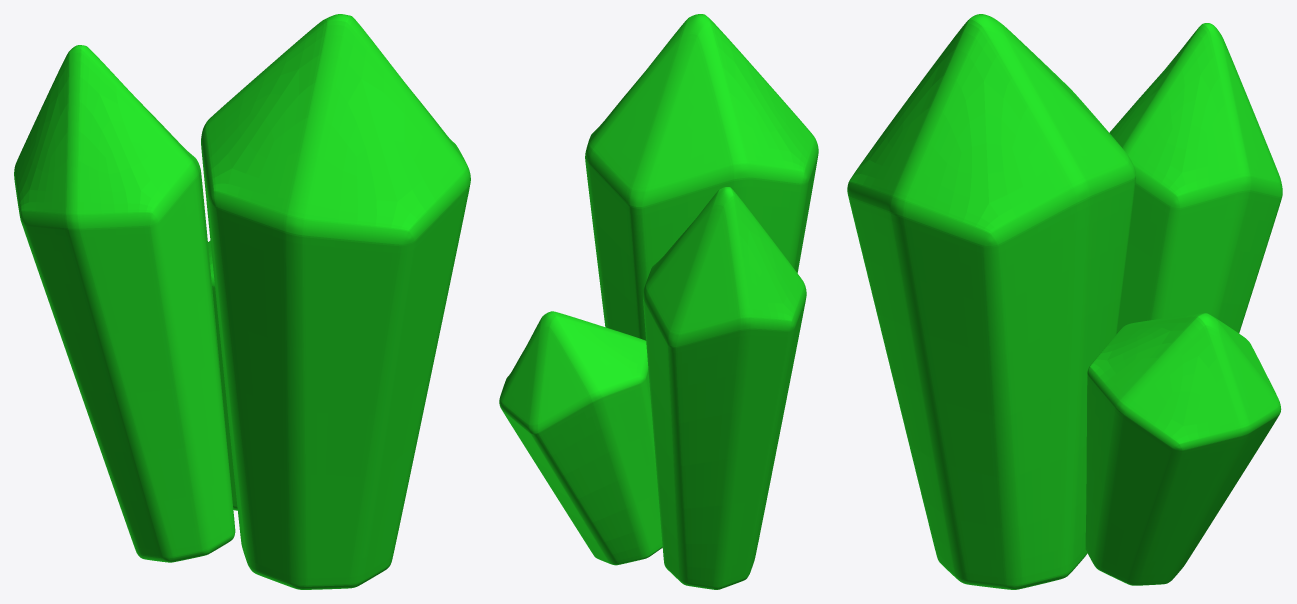
Rendered from kristalle_1.fbx.
3 views of the same model, side by side, from view 1: azimuth 30°, elevation 25°; view 2: azimuth 150°, elevation 25°; view 3: azimuth 270°, elevation 25° (orthographic). The views are drawn at different scales.
Parts seen in each view (by area): view 1: Kristall, Kristall.001, Kristall.002; view 2: Kristall.001, Kristall, Kristall.002; view 3: Kristall, Kristall.002, Kristall.001.
Part boxes in pixels (x1,y1,x2,y2): Kristall: [201, 14, 470, 589]; Kristall.001: [14, 45, 235, 562]; Kristall.002: [208, 241, 237, 510]; Kristall.001: [643, 187, 806, 589]; Kristall: [585, 14, 818, 340]; Kristall.002: [499, 311, 662, 565]; Kristall: [847, 14, 1135, 589]; Kristall.002: [1085, 313, 1281, 585]; Kristall.001: [1109, 23, 1282, 333].
Bounding box in the file's own units: 22.28 × 36.18 × 25.35.
